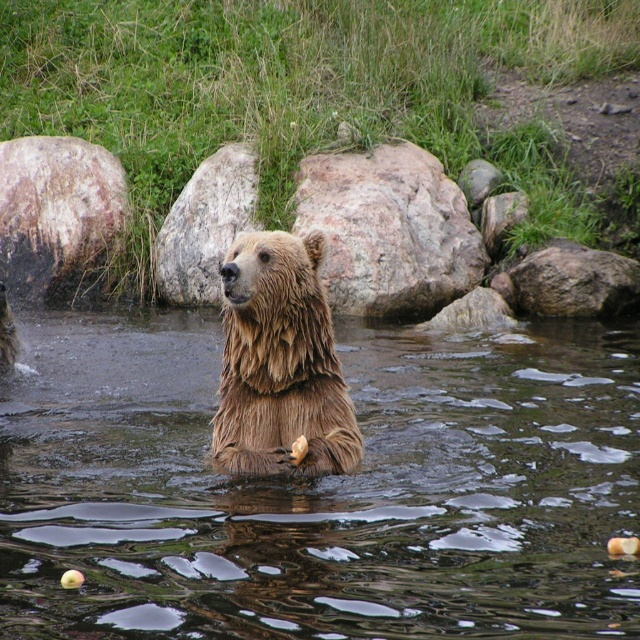Brown bear: (209, 224, 367, 477), (0, 281, 24, 375)
